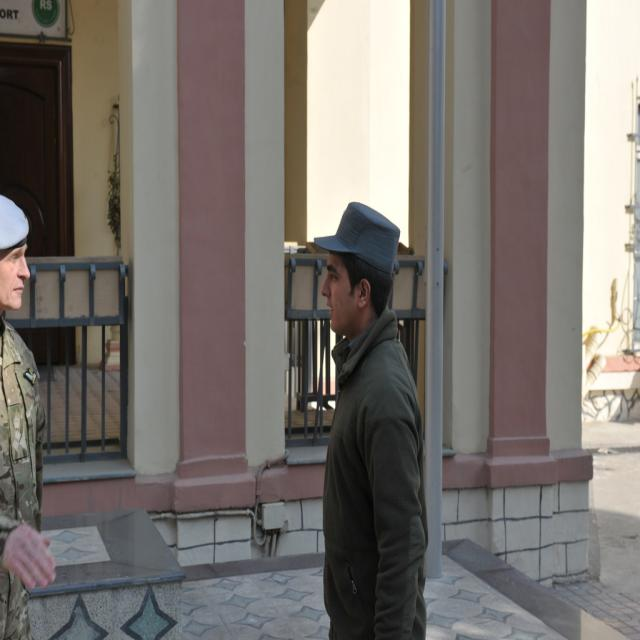Hat: (314, 198, 400, 274)
